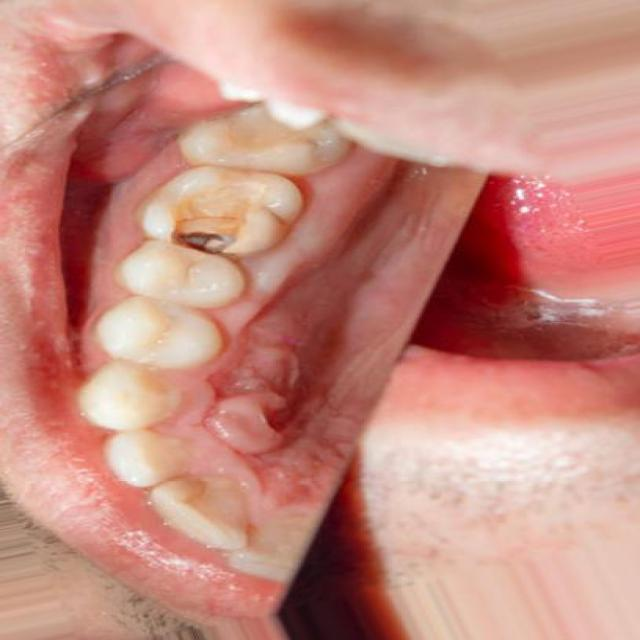caries: (147, 166, 305, 258)
